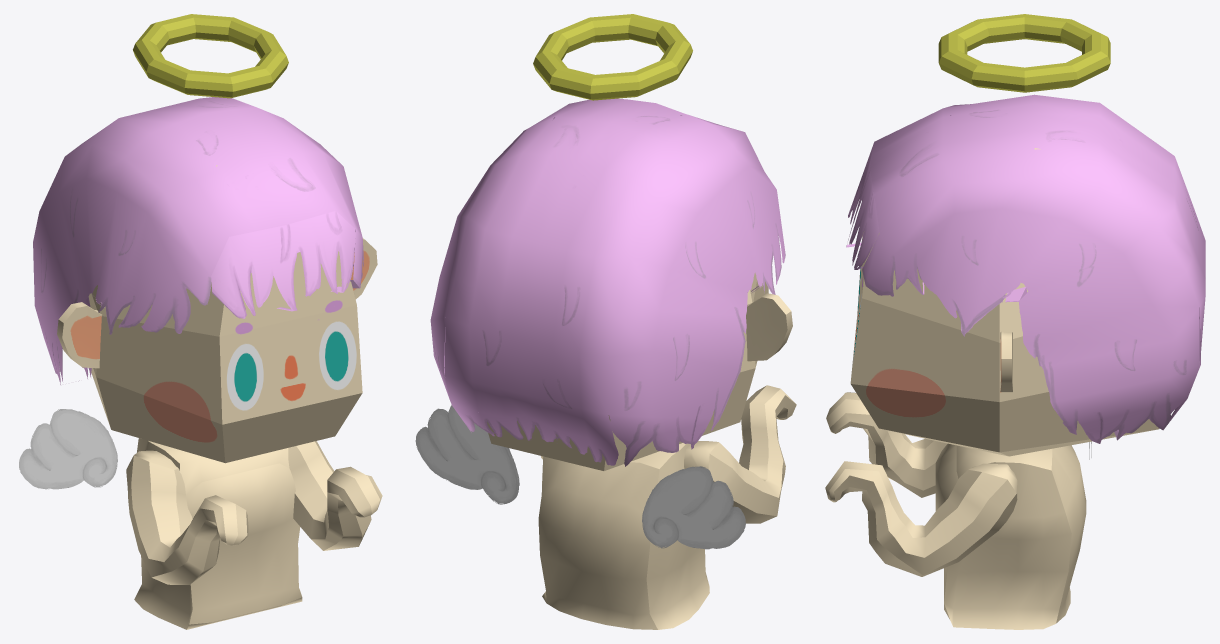
The model's file is SCOREBOARD_HELPER.fbx.
3 renders of one model, left to right at view 1: azimuth 30°, elevation 25°; view 2: azimuth 150°, elevation 25°; view 3: azimuth 270°, elevation 25°, orthographic. The views are drawn at different scales.
Visible parts, largest first — view 1: pCylinder5; view 2: pCylinder5; view 3: pCylinder5.
Part boxes in pixels (<box>): pCylinder5: <box>19,14,382,629</box>; pCylinder5: <box>415,14,796,629</box>; pCylinder5: <box>825,14,1205,629</box>.
Size of the model in its own units: 2.03 by 3.21 by 1.99.
Materials: 5 (4 with a texture image).
